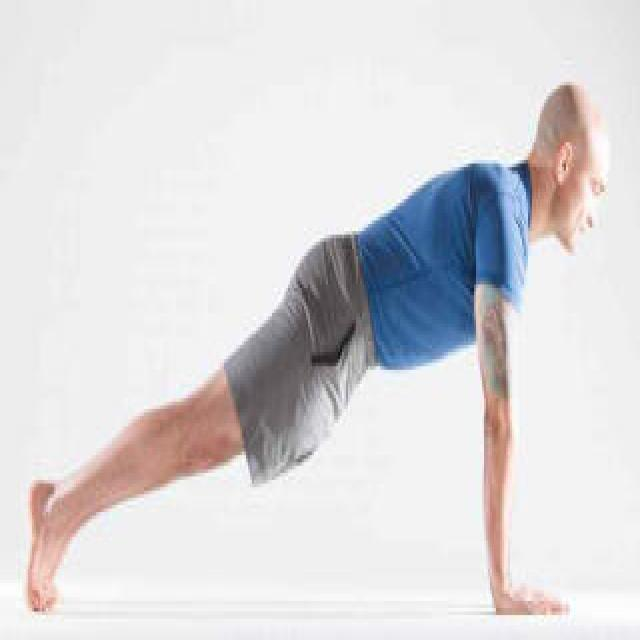yoga-pose plank: (28, 83, 610, 630)
